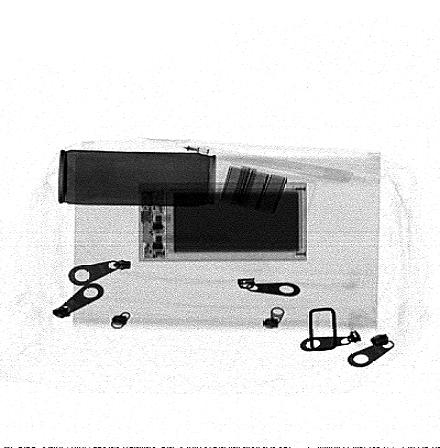Powerbank: (137, 181, 308, 262)
